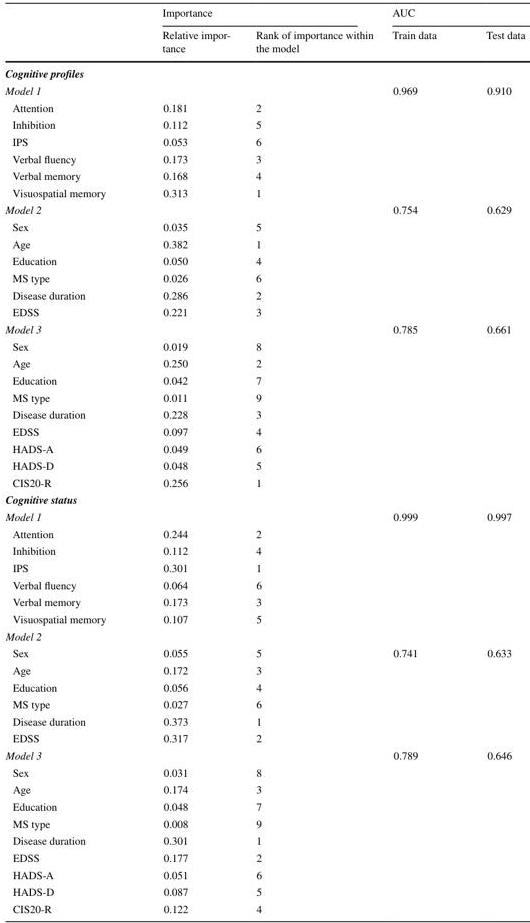table: (4, 4, 525, 917)
table column: (242, 4, 382, 917), (4, 4, 133, 917), (133, 4, 242, 917), (382, 4, 461, 917), (461, 4, 525, 917)
table column header: (4, 4, 525, 61)
table projected row header: (4, 61, 525, 82), (4, 492, 525, 508), (4, 628, 525, 644)
table row: (4, 24, 525, 61), (4, 61, 525, 82), (4, 4, 525, 24), (4, 150, 525, 168), (4, 474, 525, 492), (4, 508, 525, 526), (4, 644, 525, 662), (4, 866, 525, 884), (4, 82, 525, 99), (4, 99, 525, 116), (4, 116, 525, 133), (4, 133, 525, 150), (4, 168, 525, 185), (4, 185, 525, 202), (4, 202, 525, 219), (4, 219, 525, 236), (4, 236, 525, 253), (4, 253, 525, 270), (4, 270, 525, 287), (4, 287, 525, 304), (4, 304, 525, 321), (4, 321, 525, 338), (4, 338, 525, 355), (4, 355, 525, 372), (4, 372, 525, 389), (4, 389, 525, 406), (4, 406, 525, 423), (4, 423, 525, 440), (4, 440, 525, 457), (4, 457, 525, 474), (4, 526, 525, 543), (4, 543, 525, 560), (4, 560, 525, 577), (4, 577, 525, 594), (4, 594, 525, 611), (4, 611, 525, 628), (4, 662, 525, 679), (4, 679, 525, 696), (4, 696, 525, 713), (4, 713, 525, 730), (4, 730, 525, 747), (4, 747, 525, 764), (4, 764, 525, 781), (4, 781, 525, 798), (4, 798, 525, 815), (4, 815, 525, 832), (4, 832, 525, 849), (4, 849, 525, 866), (4, 884, 525, 901), (4, 492, 525, 508), (4, 628, 525, 644), (4, 901, 525, 917)
table spanning cell: (4, 508, 382, 526), (4, 82, 382, 99), (4, 202, 382, 219), (4, 321, 382, 338), (4, 747, 382, 764), (133, 4, 382, 24), (382, 4, 525, 24)
